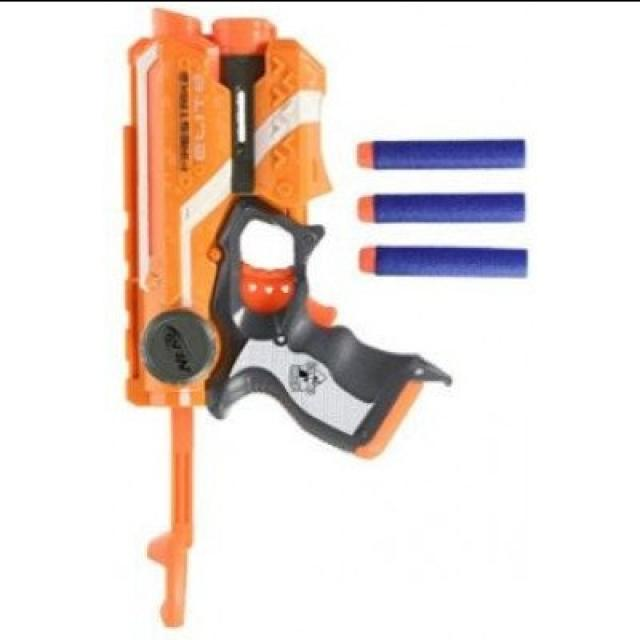Nerf gun: (110, 5, 444, 635)
